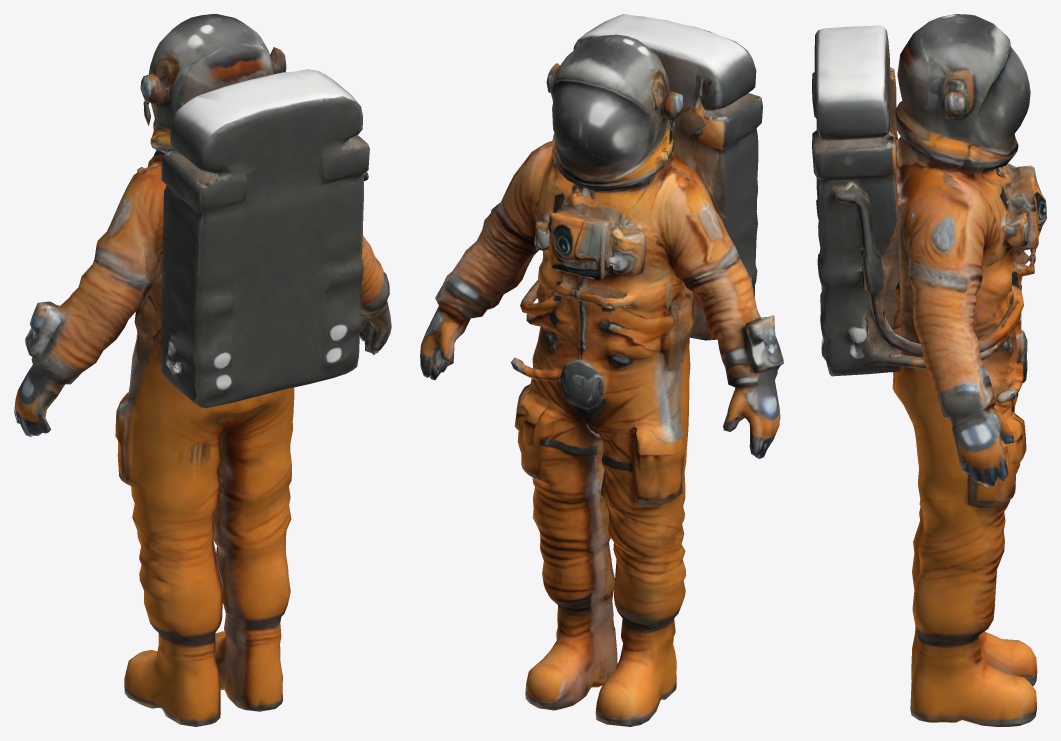
The model's file is Astronaut.glb.
3 renders of one model, left to right at view 1: azimuth 30°, elevation 25°; view 2: azimuth 150°, elevation 25°; view 3: azimuth 270°, elevation 25°, orthographic. The views are drawn at different scales.
Visible parts, largest first — view 1: Mesh_0.001; view 2: Mesh_0.001; view 3: Mesh_0.001.
Boxes of the visible parts, x1,y1,x2,y2 form: Mesh_0.001: (14,14,391,726); Mesh_0.001: (420,14,783,726); Mesh_0.001: (812,14,1046,726).
Bounding box in the file's own units: 1.12 × 2 × 0.6273.
Materials: 1 (1 with a texture image).
